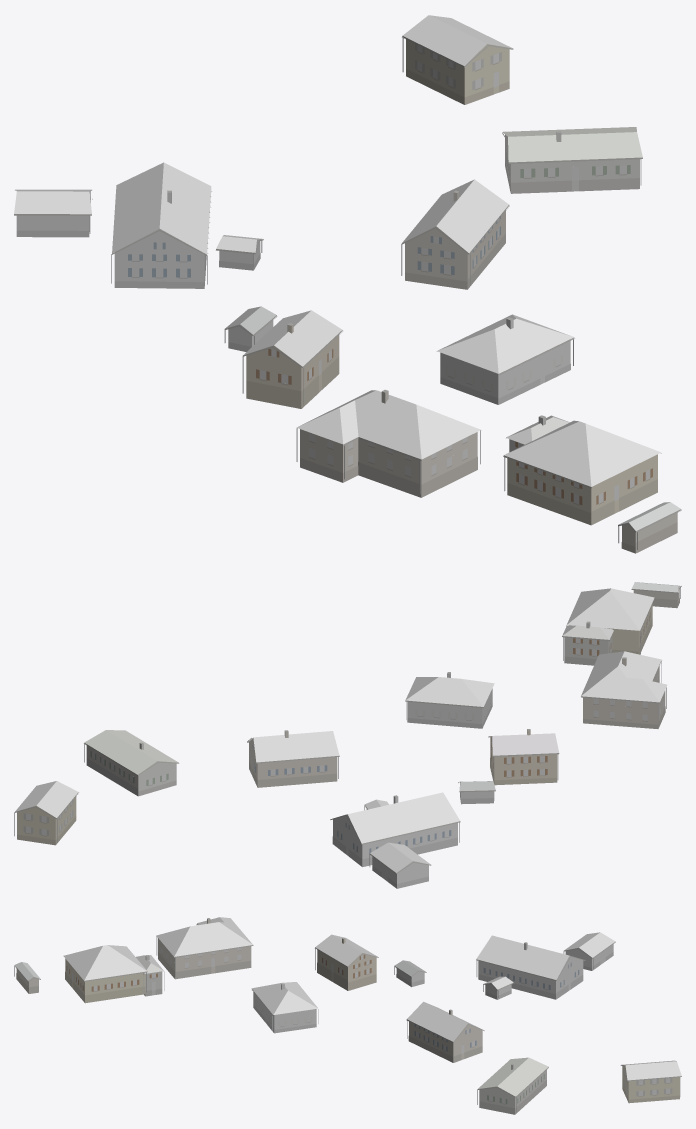
The picture shows the model from 3 angles, top to bottom: view 1: azimuth 30°, elevation 25°; view 2: azimuth 150°, elevation 25°; view 3: azimuth 270°, elevation 25°; orthographic projection. The views are drawn at different scales.
Visible parts, largest first — view 1: bld; view 2: bld; view 3: bld.
Boxes of the visible parts, <box> form: bld: <box>14,15,681,553</box>; bld: <box>14,582,681,888</box>; bld: <box>14,917,681,1114</box>.
Size of the model in its own units: 90.29 by 14.09 by 153.
